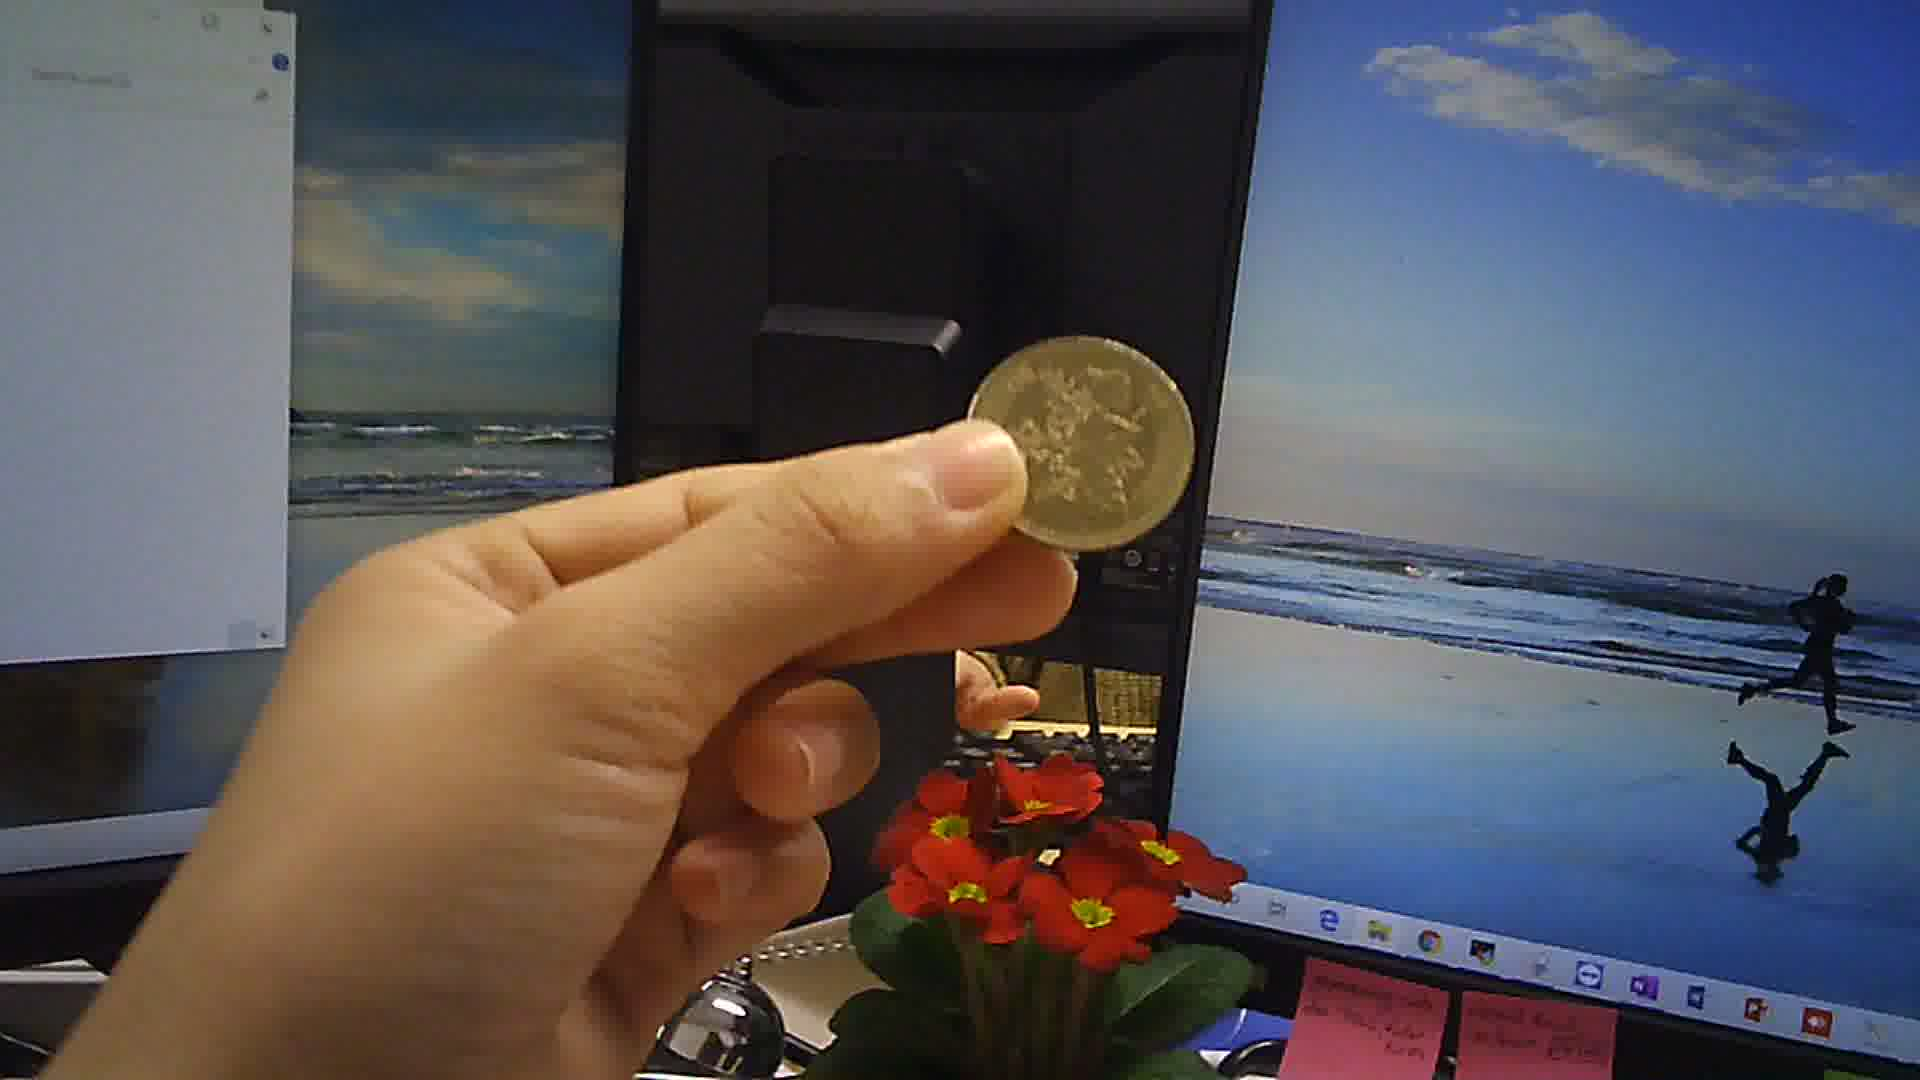500 Yen: (967, 328, 1200, 554)
